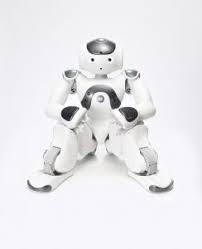nao: (26, 32, 180, 198)
